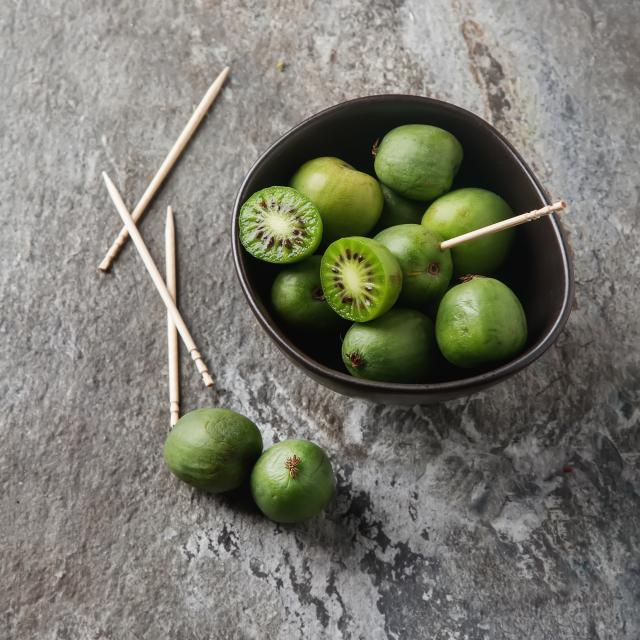kiwi: (156, 404, 252, 502), (442, 279, 542, 363), (243, 176, 332, 267), (258, 438, 334, 542), (336, 316, 429, 379), (321, 236, 396, 314)
